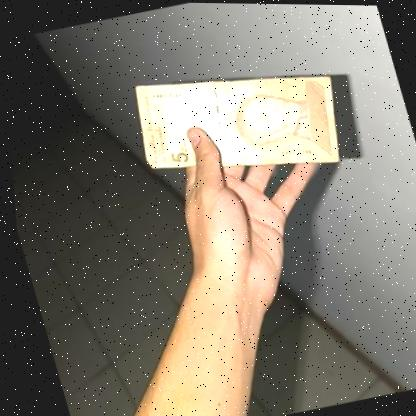five-front-vef: (121, 43, 354, 200)
